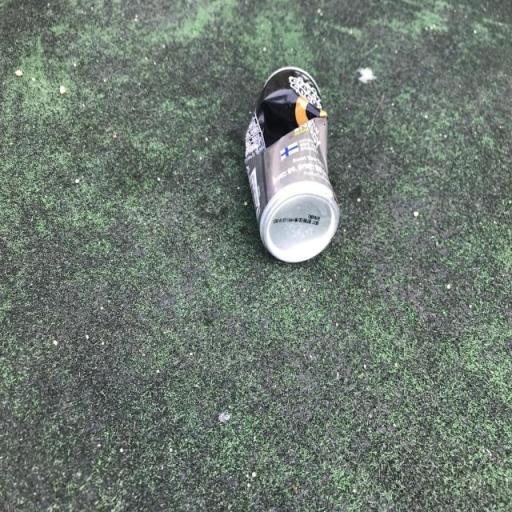metal: (232, 36, 353, 323)
